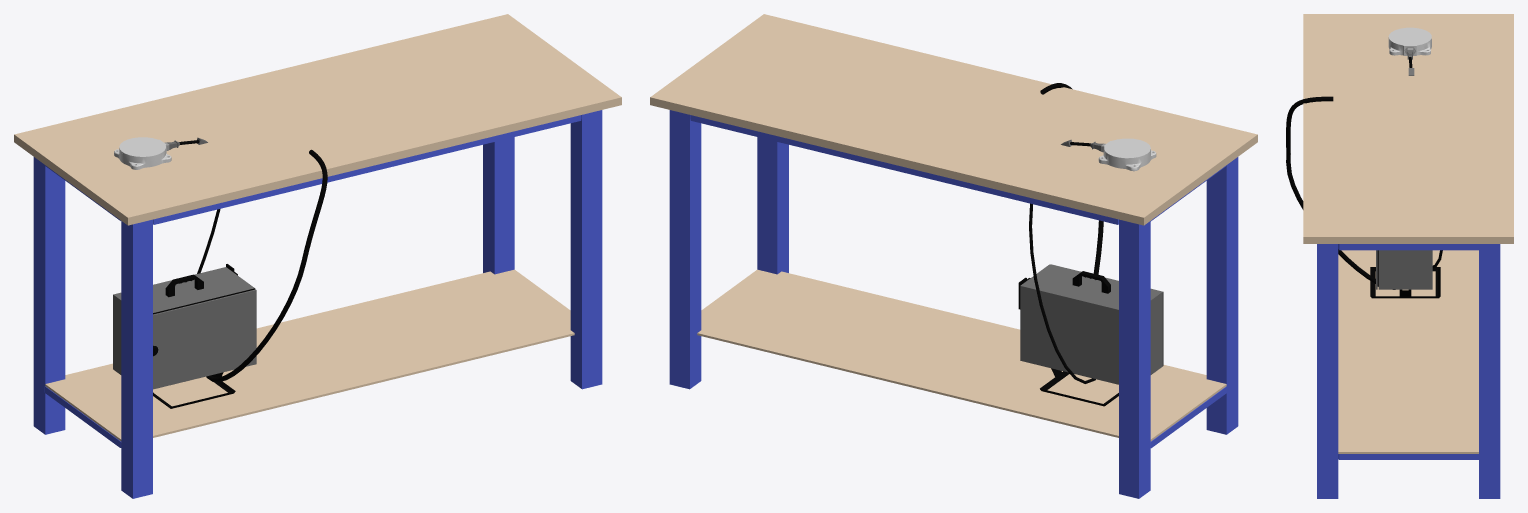
File: Table_UR.fbx
3 renders of one model, left to right at view 1: azimuth 30°, elevation 25°; view 2: azimuth 150°, elevation 25°; view 3: azimuth 270°, elevation 25°, orthographic. The views are drawn at different scales.
Visible parts, largest first — view 1: TableLong, Coffret_commande, Obj_TT_tube.001, RobotArm; view 2: TableLong, Coffret_commande, RobotArm, Obj_TT_tube; view 3: TableLong, Coffret_commande, RobotArm, Obj_TT_tube.001.
Part boxes in pixels (box(x1,y1,x2,y2)): TableLong: box(14, 14, 621, 498); Coffret_commande: box(113, 137, 256, 408); Obj_TT_tube.001: box(206, 149, 327, 382); RobotArm: box(114, 137, 171, 169); TableLong: box(650, 14, 1257, 498); Coffret_commande: box(1018, 139, 1163, 406); RobotArm: box(1098, 138, 1156, 171); Obj_TT_tube: box(1029, 142, 1095, 383); TableLong: box(1303, 14, 1513, 498); Coffret_commande: box(1370, 50, 1440, 298); RobotArm: box(1388, 27, 1431, 55); Obj_TT_tube.001: box(1286, 96, 1395, 289).
Size of the model in its own units: 1.8 by 1.05 by 0.7779.
